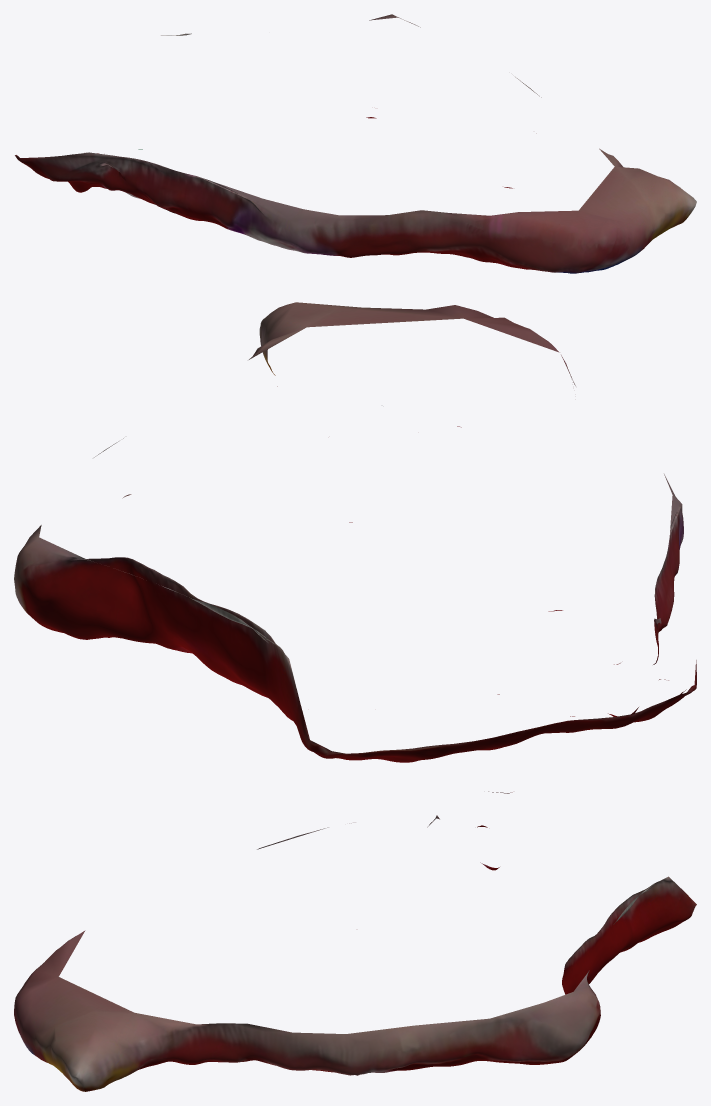
The picture shows the model from 3 angles, top to bottom: view 1: azimuth 30°, elevation 25°; view 2: azimuth 150°, elevation 25°; view 3: azimuth 270°, elevation 25°; orthographic projection. The views are drawn at different scales.
Bounding box in the file's own units: 0.684 × 0.1013 × 0.751.
Materials: 1 (1 with a texture image).
